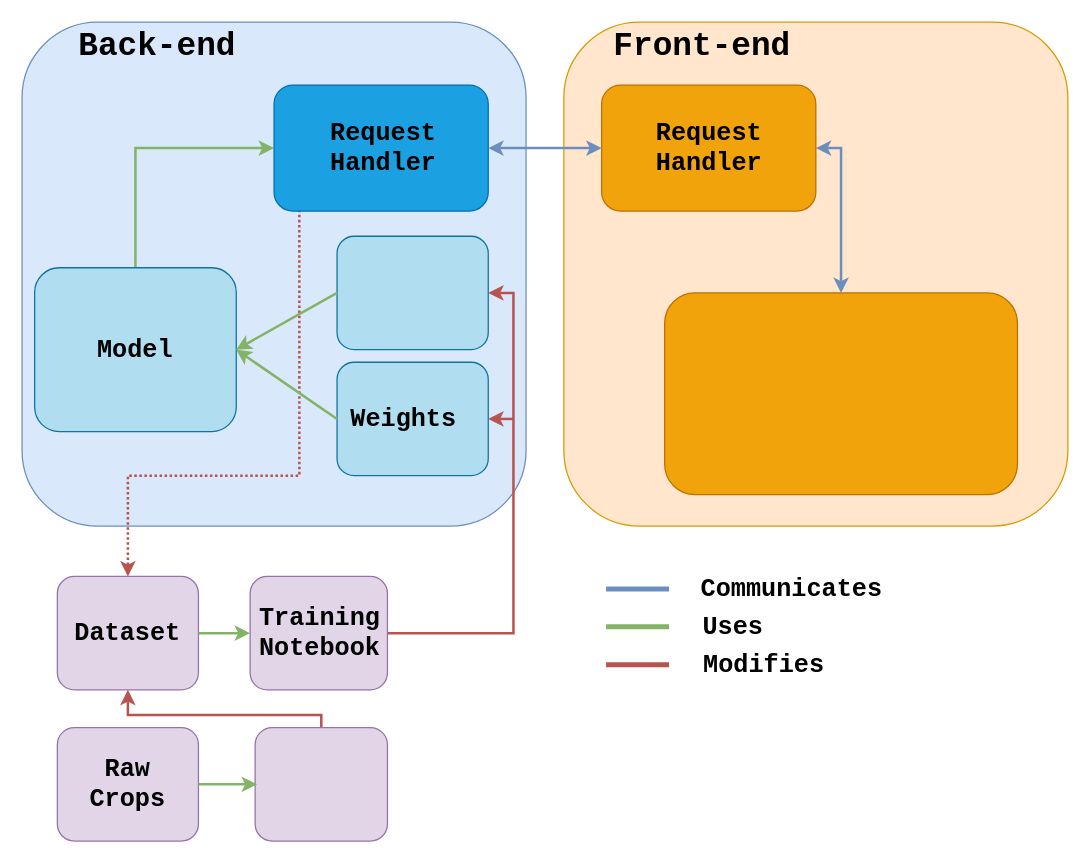
Image size: 1090x863. Some labels were removed from this diagram. The centre of each missing label's shape, as x and y in pixels:
"Interface" belongs at pixel 840 393.
"Params" belongs at pixel 412 292.
"Preproc. Notebook" belongs at pixel 320 783.
